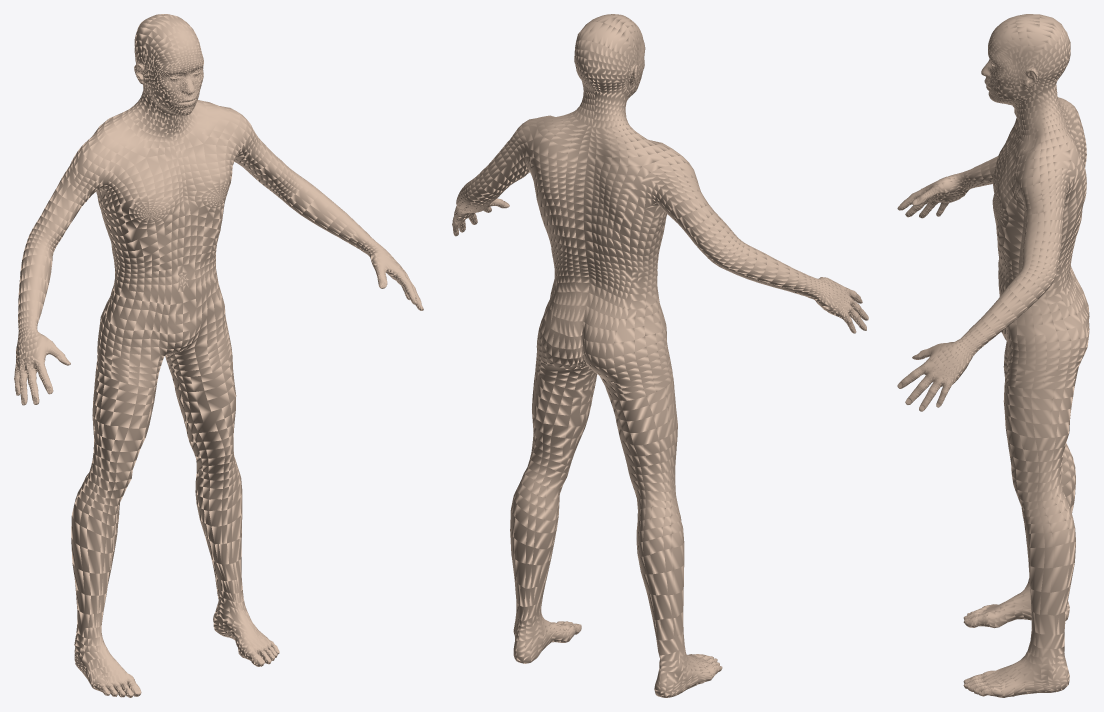
File: male_low_medium.glb
3 renders of one model, left to right at view 1: azimuth 30°, elevation 25°; view 2: azimuth 150°, elevation 25°; view 3: azimuth 270°, elevation 25°, orthographic.
Visible parts, largest first — view 1: male_low_mediumMesh; view 2: male_low_mediumMesh; view 3: male_low_mediumMesh.
Boxes of the visible parts, <box> form: male_low_mediumMesh: <box>14,14,423,697</box>; male_low_mediumMesh: <box>452,14,868,697</box>; male_low_mediumMesh: <box>897,14,1089,697</box>.
Size of the model in its own units: 11.22 by 17.17 by 4.67.
